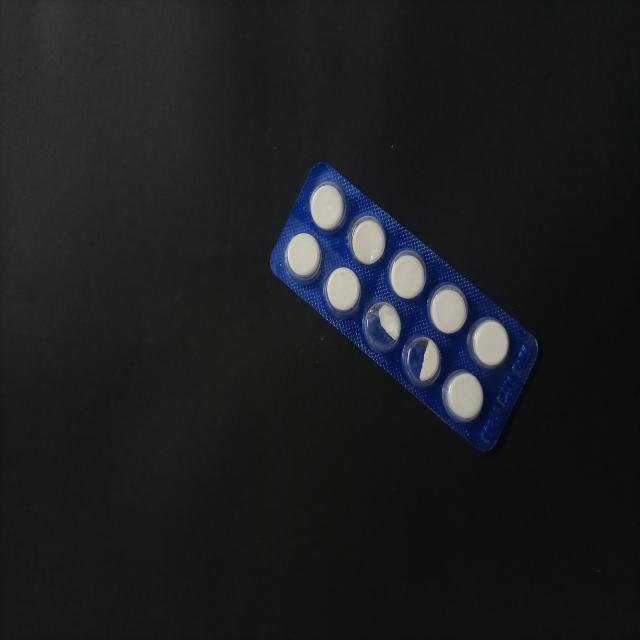defect: (403, 332, 443, 390), (360, 299, 402, 354)
